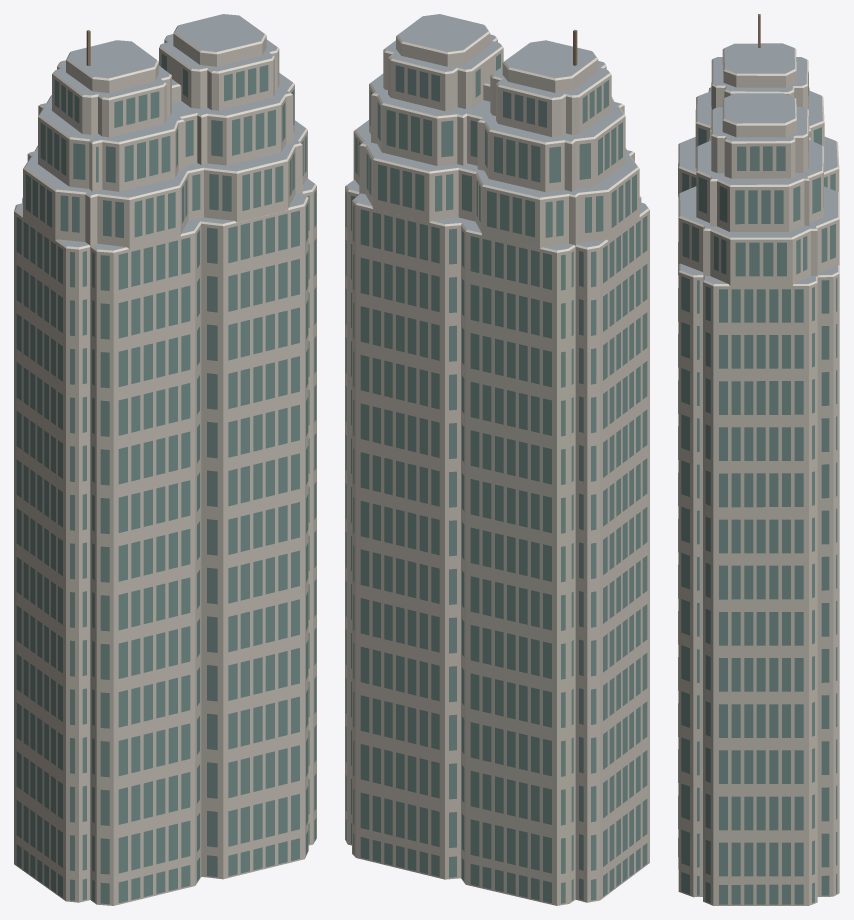
The model's file is tor-bay-wellington-tower.glb.
3 views of the same model, side by side, from view 1: azimuth 30°, elevation 25°; view 2: azimuth 150°, elevation 25°; view 3: azimuth 270°, elevation 25° (orthographic). The views are drawn at different scales.
Parts seen in each view (by area): view 1: Bay Wellington Tower; view 2: Bay Wellington Tower; view 3: Bay Wellington Tower.
Part boxes in pixels (x1,y1,x2,y2): Bay Wellington Tower: [14, 14, 316, 905]; Bay Wellington Tower: [345, 14, 649, 905]; Bay Wellington Tower: [678, 14, 839, 905].
Size of the model in its own units: 68.93 by 218 by 40.04.
